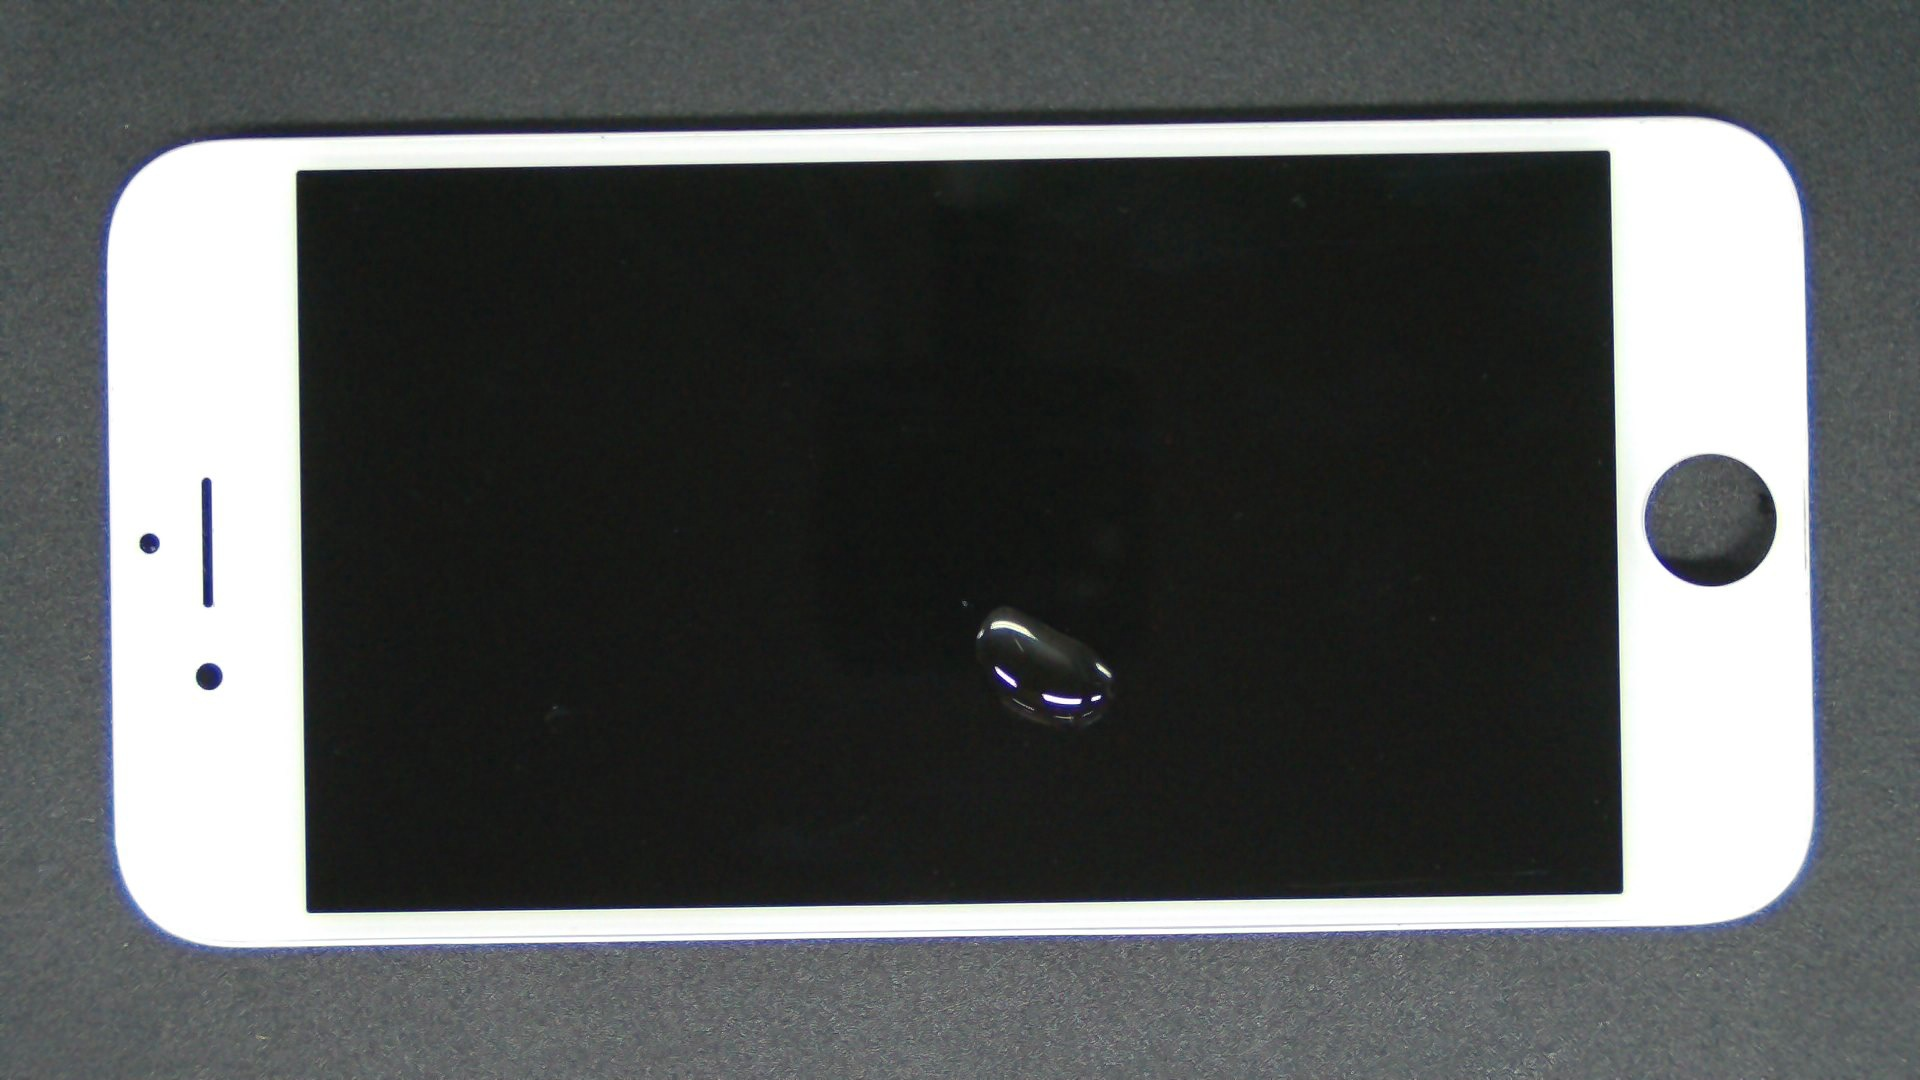oil: (506, 303, 1516, 911)
